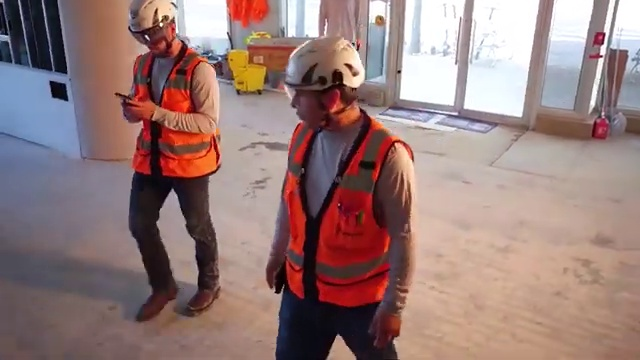helmet: (280, 33, 370, 94), (121, 1, 185, 36)
jacket: (289, 110, 405, 314), (120, 46, 232, 180)
